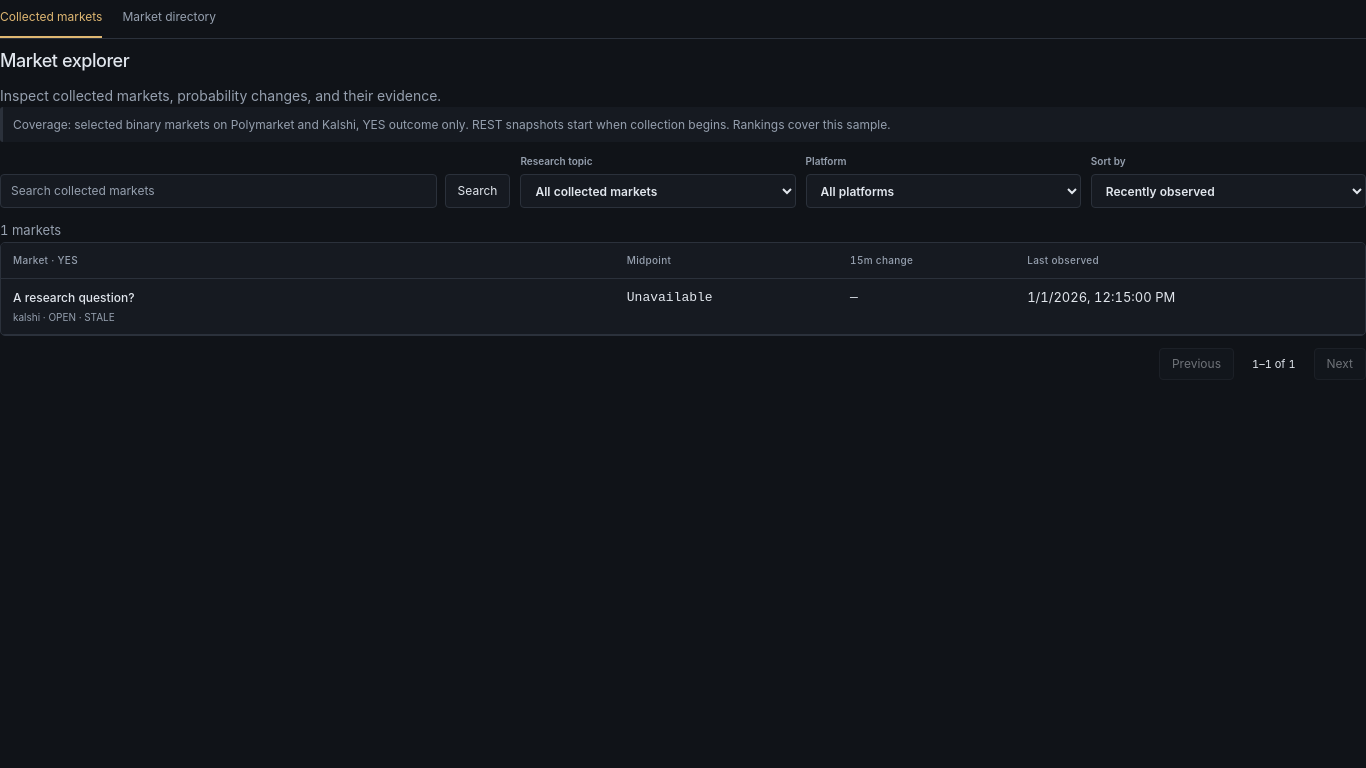
Scenario: links a selected signal to evidence available at its timestamp and exposes the contract
Click the button "A research question?".
click(74, 297)  # box [13,288,134,307]
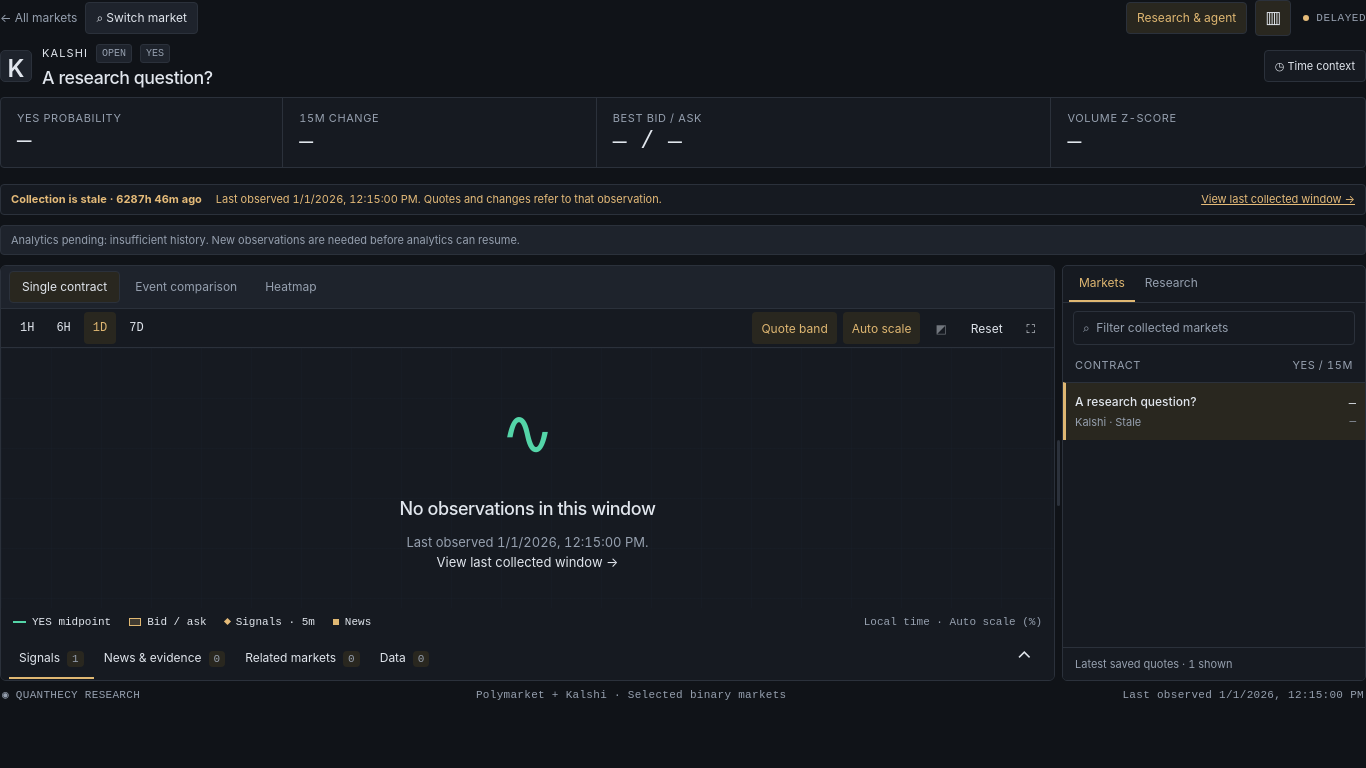
Click the tab "Signals1".
click(51, 659)  # box [9,639,94,679]
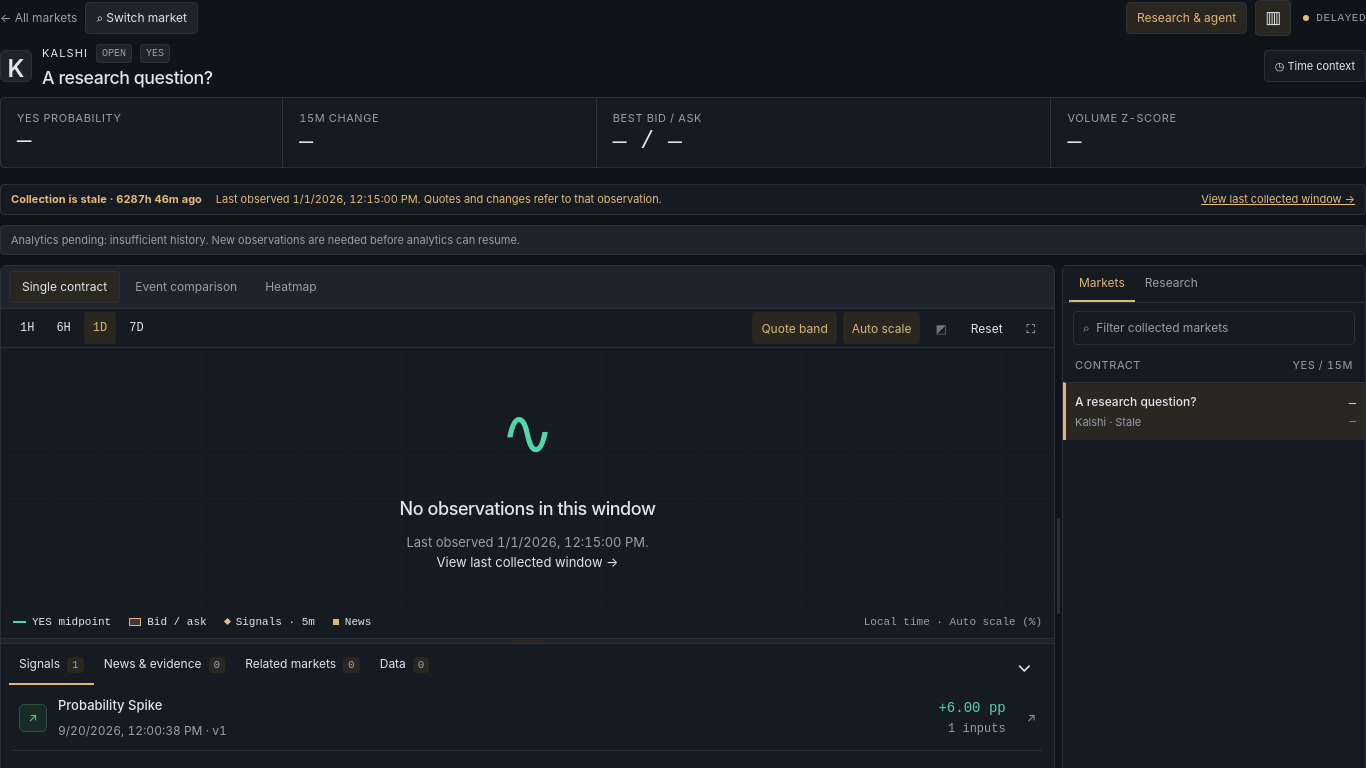
Click the button "probability spike".
click(110, 705)  # box [13,686,1042,750]
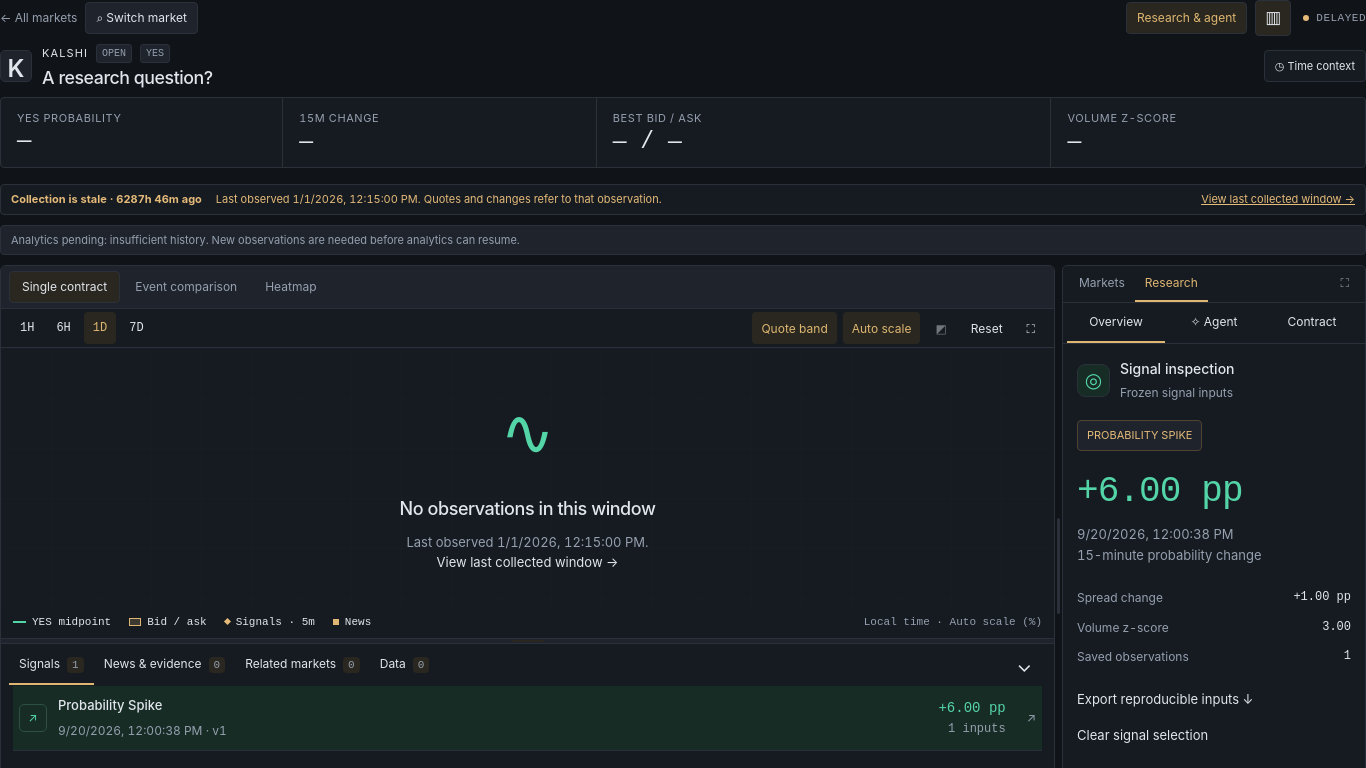
Expected: the text "Signal inspection" is shown, [1120,358,1234,379]
Click the button "Contract".
click(1312, 323)  # box [1263,303,1361,343]
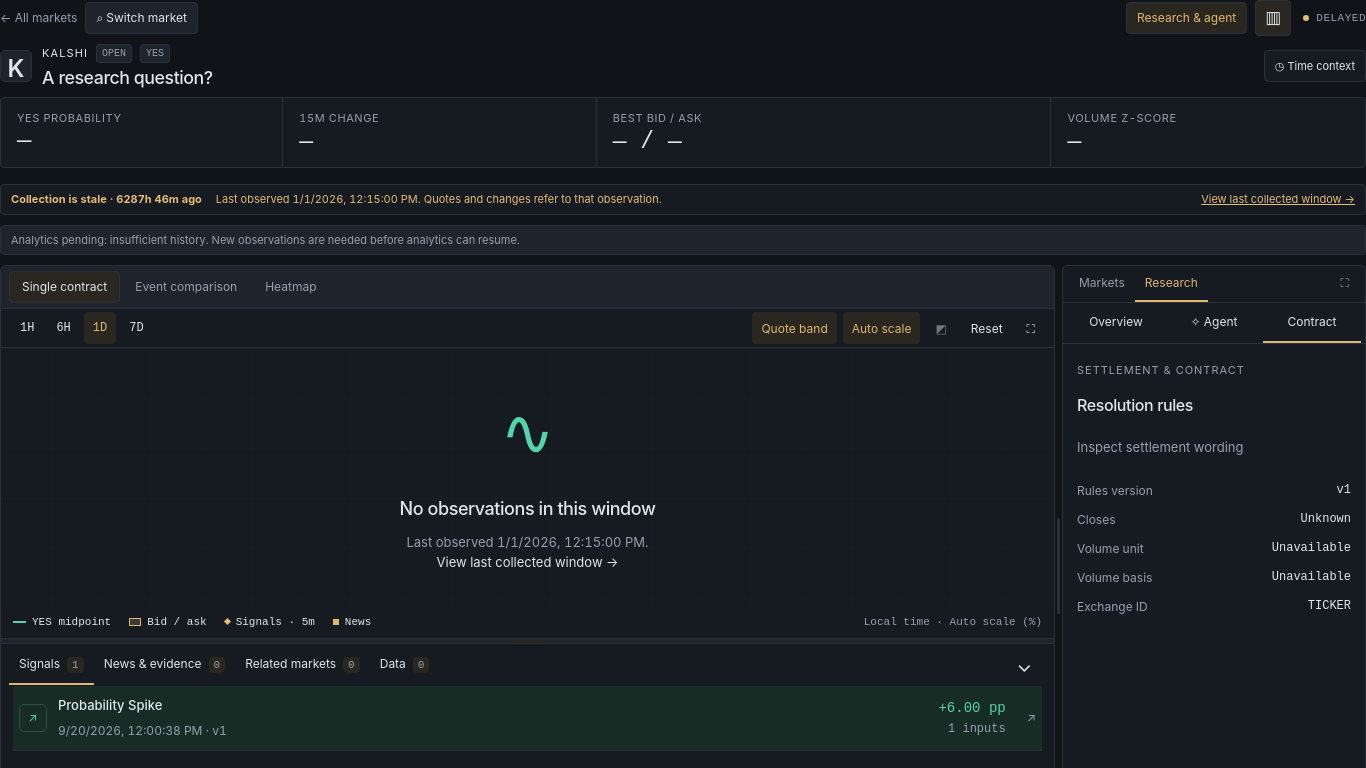
Expected: the text "Inspect settlement wording" is shown, [1077,439,1244,455]
